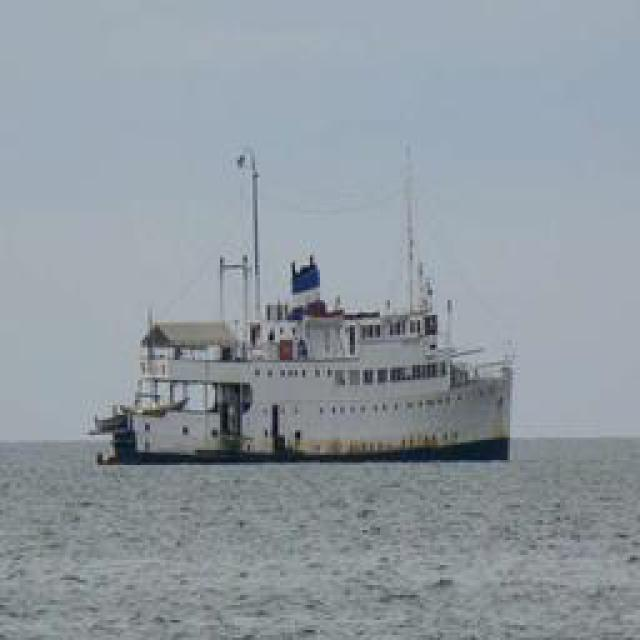Ship: (102, 131, 512, 469)
